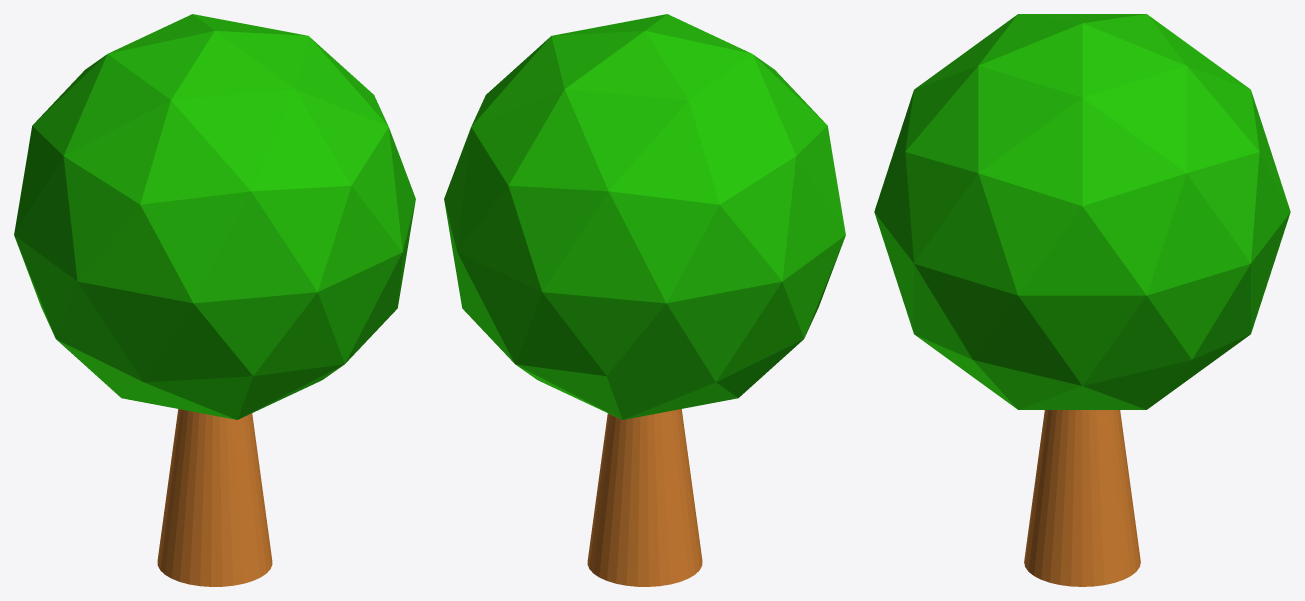
Rendered from tree.fbx.
3 renders of one model, left to right at view 1: azimuth 30°, elevation 25°; view 2: azimuth 150°, elevation 25°; view 3: azimuth 270°, elevation 25°, orthographic.
Visible parts, largest first — view 1: Icosphere; view 2: Icosphere; view 3: Icosphere.
Part boxes in pixels (<box>): Icosphere: <box>14,14,415,586</box>; Icosphere: <box>444,14,845,586</box>; Icosphere: <box>874,14,1290,586</box>.
Size of the model in its own units: 190 by 286 by 200.
